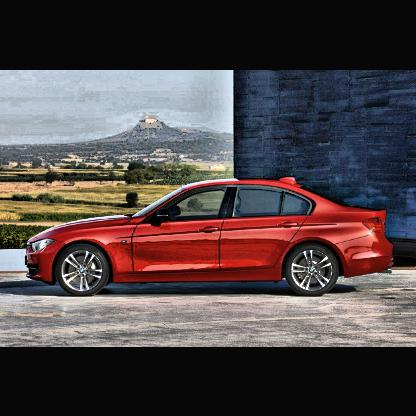BMW 3 Series Sedan 2012: (26, 178, 393, 296)
